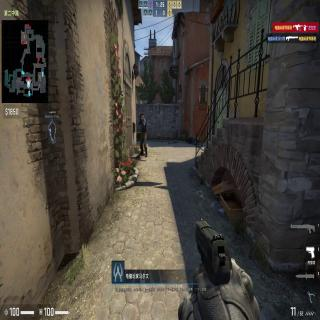T-Body: (138, 113, 148, 157)
T-Head: (140, 113, 145, 119)
